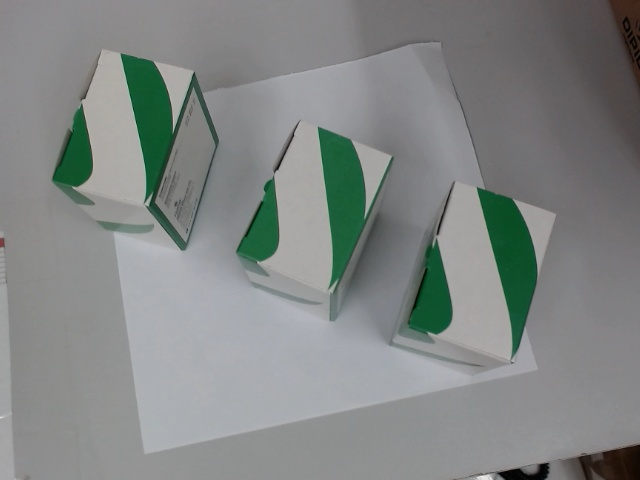divisor: (55, 37, 544, 458)
item: (49, 47, 221, 254), (387, 177, 557, 378), (234, 117, 396, 323)
